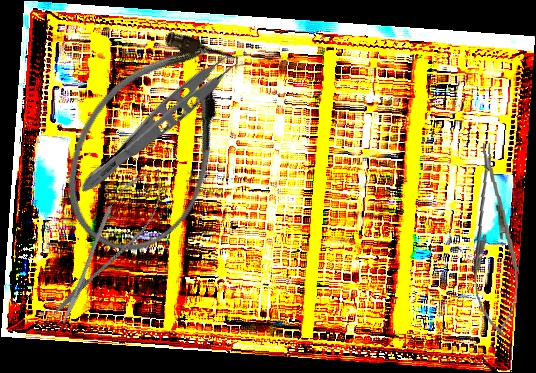Cannula: (39, 9, 265, 274)
Micro Scissor: (39, 156, 178, 333)
Needle Holder: (464, 141, 524, 338)
Tissue Forceps: (74, 39, 254, 209)
